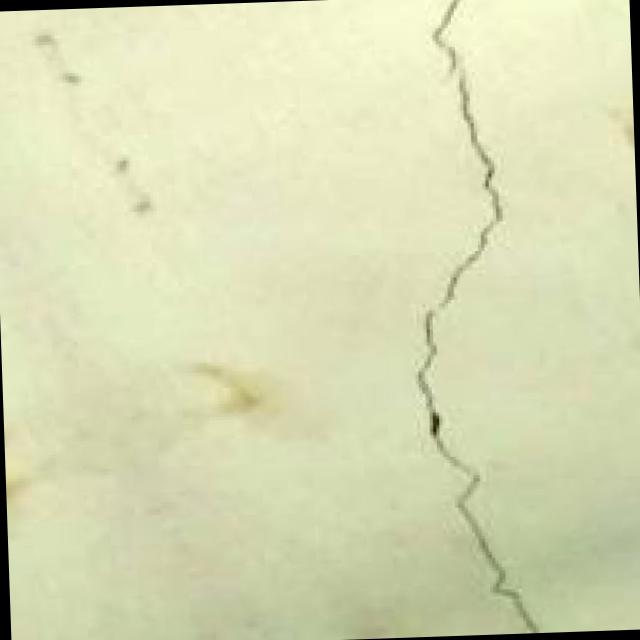crack: (369, 0, 558, 634)
